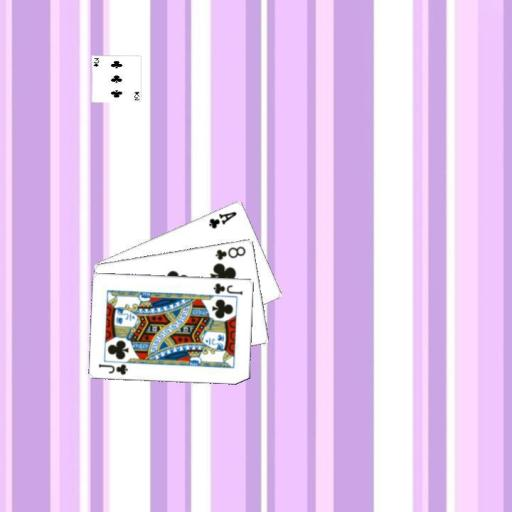8C: (213, 242, 248, 261)
AC: (206, 208, 238, 230)
JC: (211, 279, 245, 296), (96, 361, 129, 376)
